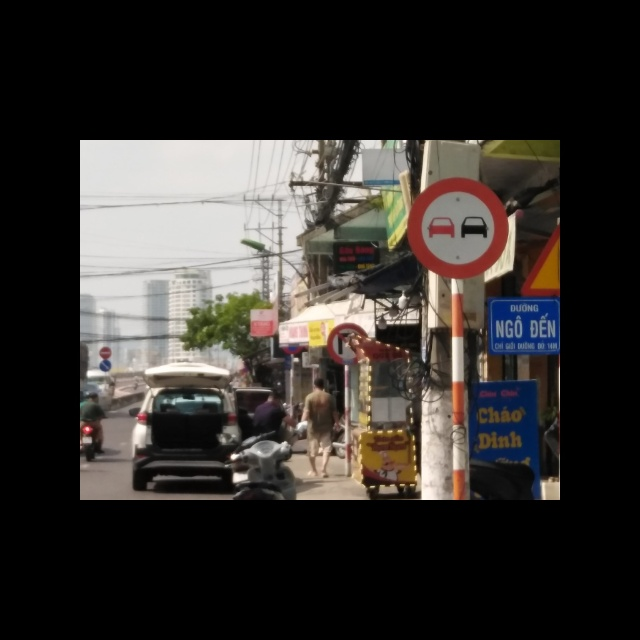Cấm vượt: (409, 178, 512, 279)
